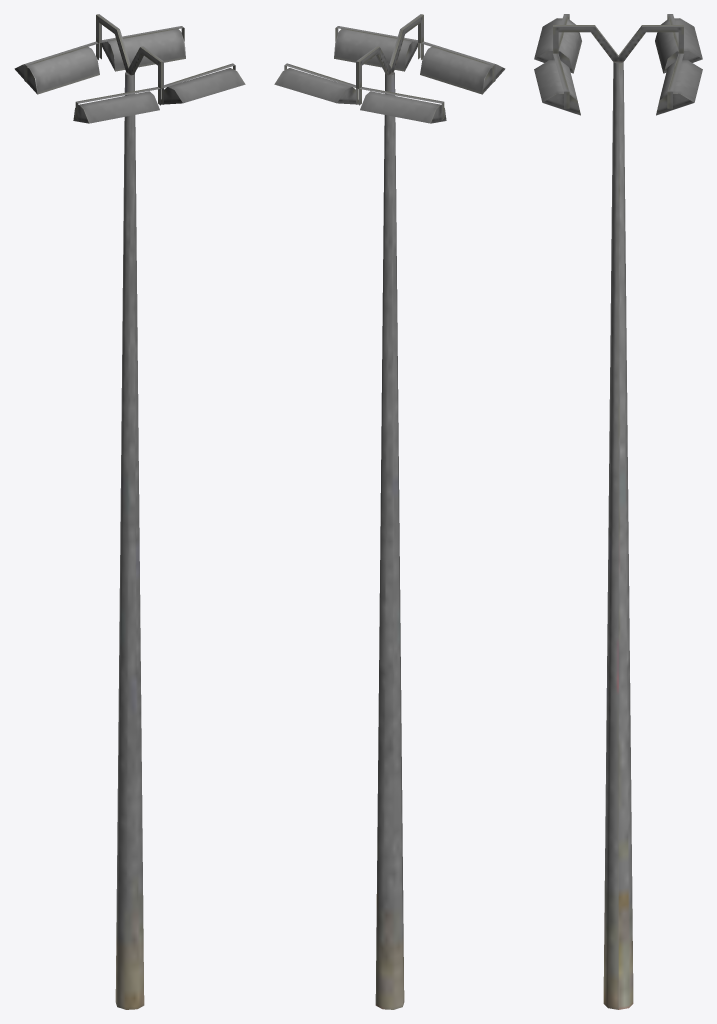
The model's file is lightmastb020_watertc2_0_lev1.glb.
3 renders of one model, left to right at view 1: azimuth 30°, elevation 25°; view 2: azimuth 150°, elevation 25°; view 3: azimuth 270°, elevation 25°, orthographic.
Parts seen in each view (by area): view 1: lightmastb020_watertc2_0_lev1; view 2: lightmastb020_watertc2_0_lev1; view 3: lightmastb020_watertc2_0_lev1.
Boxes of the visible parts, <box> form: lightmastb020_watertc2_0_lev1: <box>14,14,245,1009</box>; lightmastb020_watertc2_0_lev1: <box>274,14,505,1009</box>; lightmastb020_watertc2_0_lev1: <box>534,14,702,1009</box>.
Size of the model in its own units: 0.8323 by 4.88 by 0.7643.
1 material, 1 textured.
